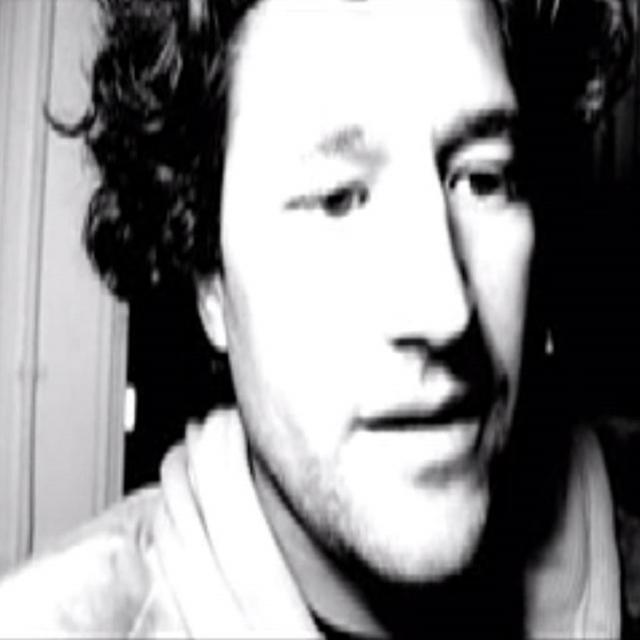nomask: (224, 3, 536, 585)
